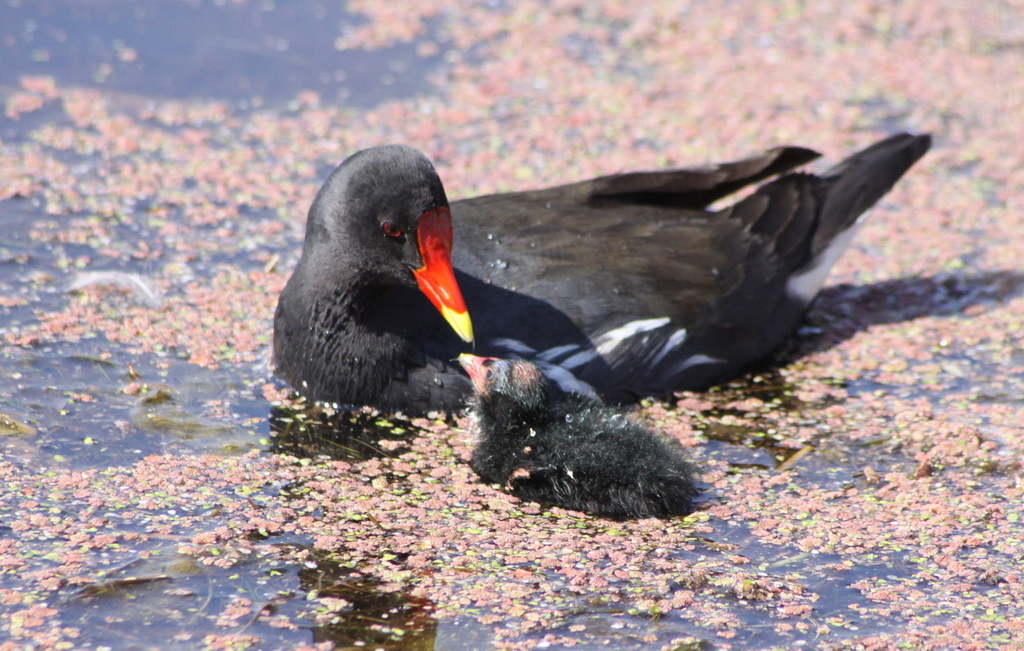Animal: (274, 126, 932, 418), (454, 348, 707, 519)
